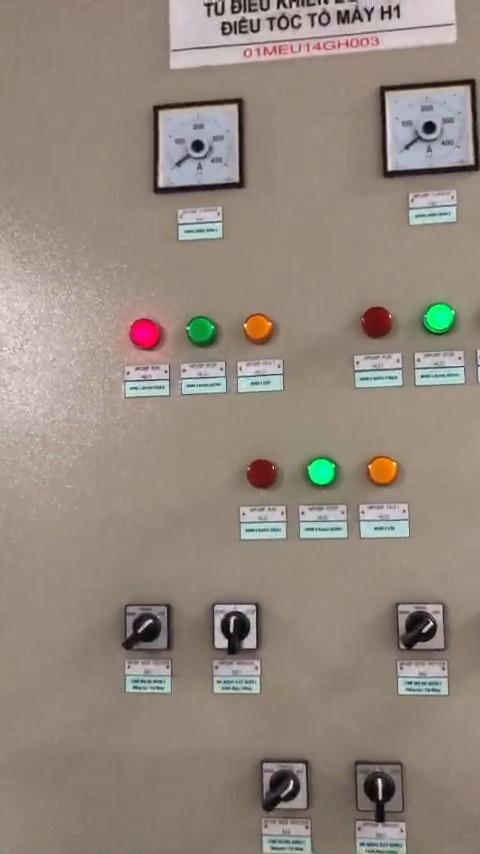led: (424, 300, 460, 335), (184, 315, 220, 350), (360, 305, 395, 340), (304, 454, 338, 490), (369, 454, 403, 489), (244, 458, 279, 492), (127, 319, 164, 351), (244, 312, 275, 346)
twist: (210, 601, 260, 653), (357, 761, 404, 816), (124, 604, 172, 655), (262, 760, 309, 810), (397, 606, 445, 653)
